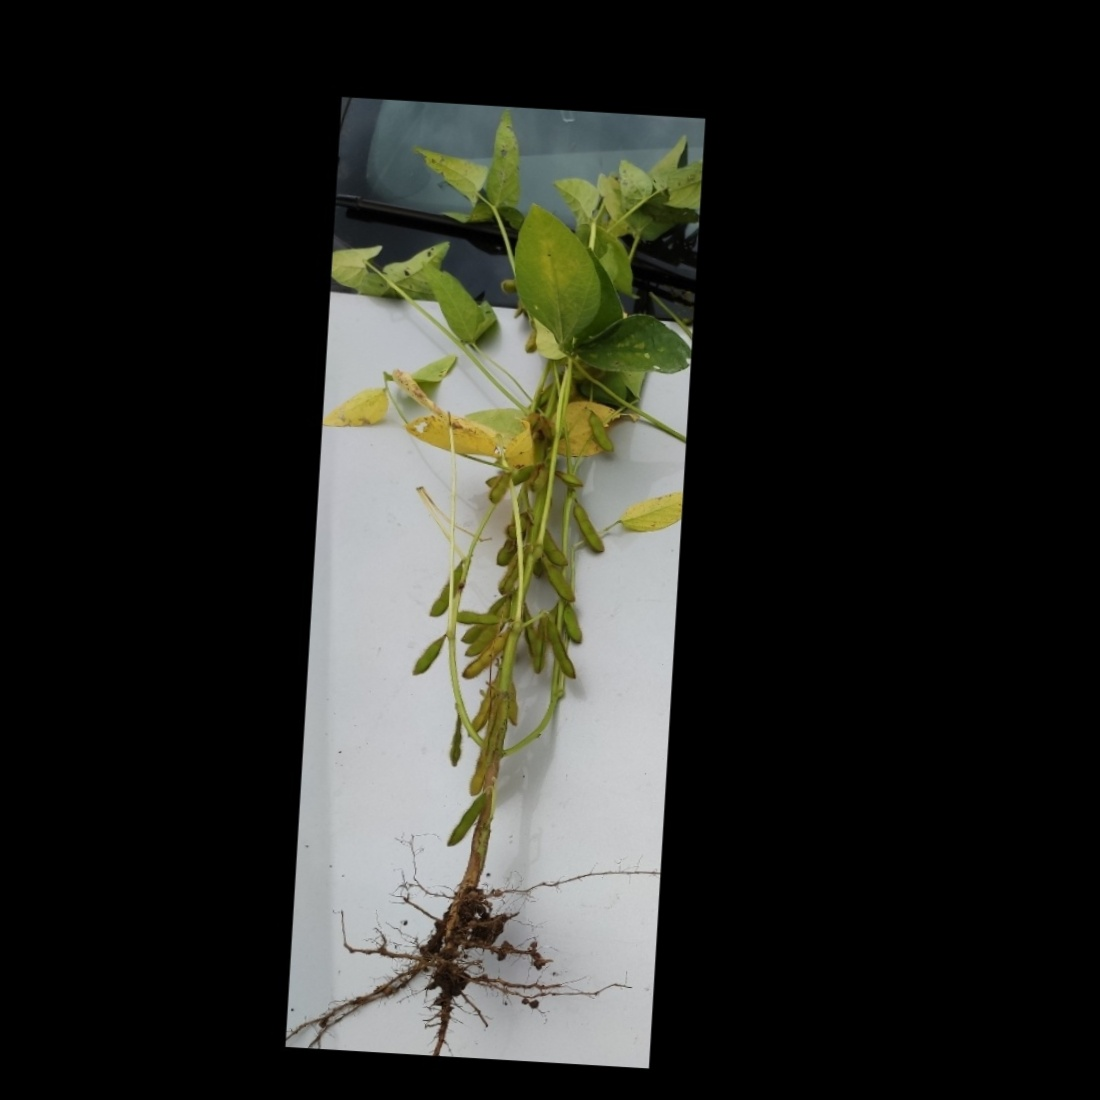pod: (541, 617, 581, 683), (460, 630, 506, 683), (445, 790, 485, 851), (410, 628, 450, 681), (426, 563, 462, 622), (538, 560, 580, 607), (570, 502, 605, 555), (584, 408, 621, 454), (562, 602, 586, 647)
soy: (343, 128, 670, 1022)
